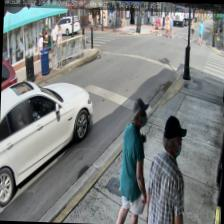person: (144, 114, 187, 224), (115, 97, 151, 224)
